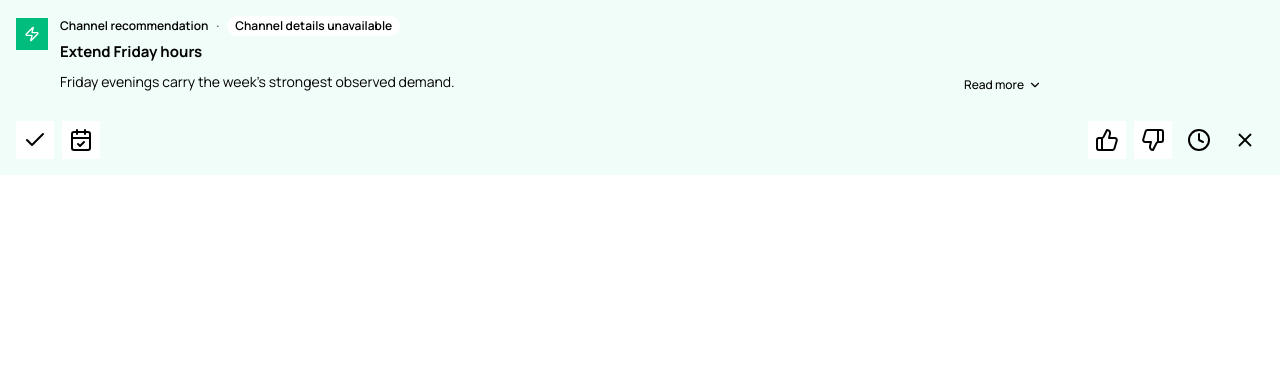
Test case: IntelligenceCard research provenance › labels market-research recommendations and links their exact outcomes
Click the button "Read more" at coordinates (1003, 85), box [964,77,1042,93]
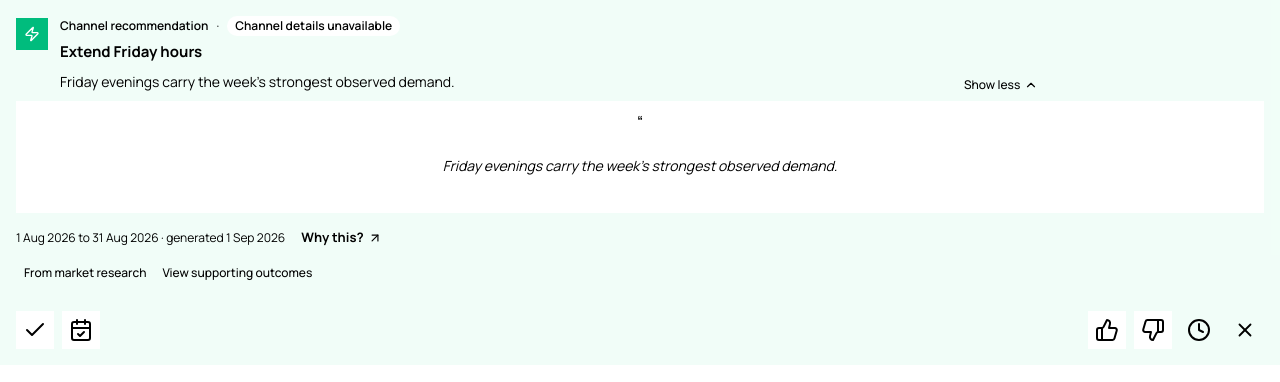
Check: the text "From market research" is shown, box [16,263,154,283]
